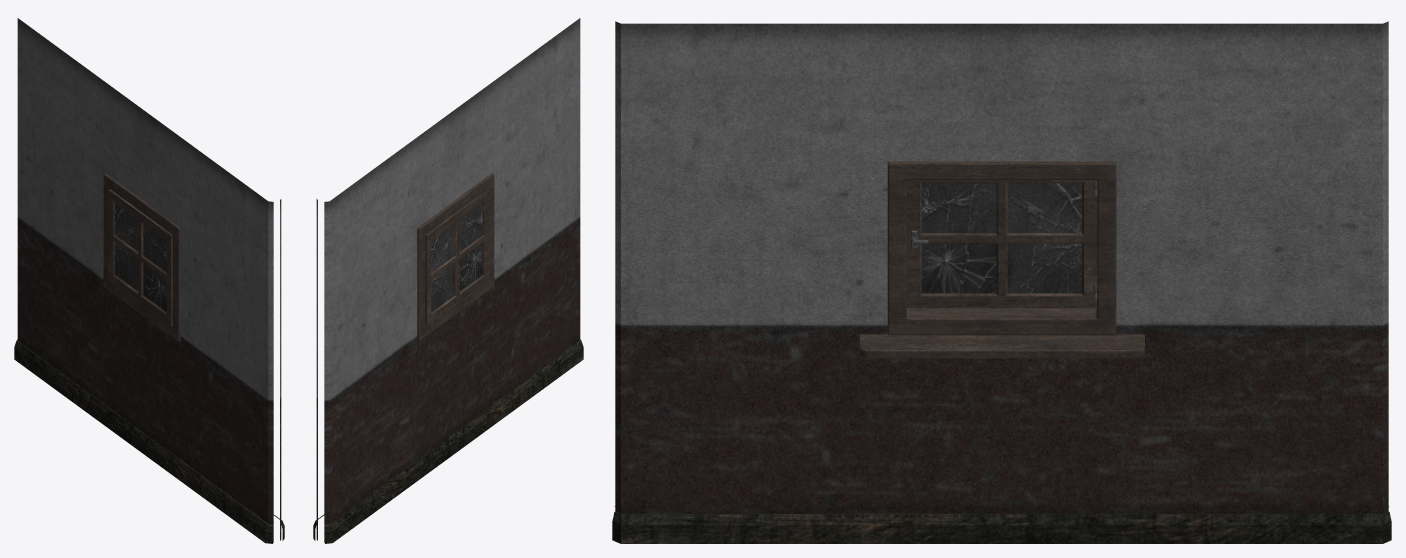
3 views of the same model, side by side, from view 1: azimuth 30°, elevation 25°; view 2: azimuth 150°, elevation 25°; view 3: azimuth 270°, elevation 25° (orthographic). The views are drawn at different scales.
Parts seen in each view (by area): view 1: window_1_single; view 2: window_1_single; view 3: window_1_single.
Boxes of the visible parts, bbox=[...] form: window_1_single: bbox=[14, 18, 284, 543]; window_1_single: bbox=[313, 18, 583, 543]; window_1_single: bbox=[612, 21, 1391, 543].
Bounding box in the file's own units: 0.35 × 3 × 4.09.
8 materials, 8 textured.
